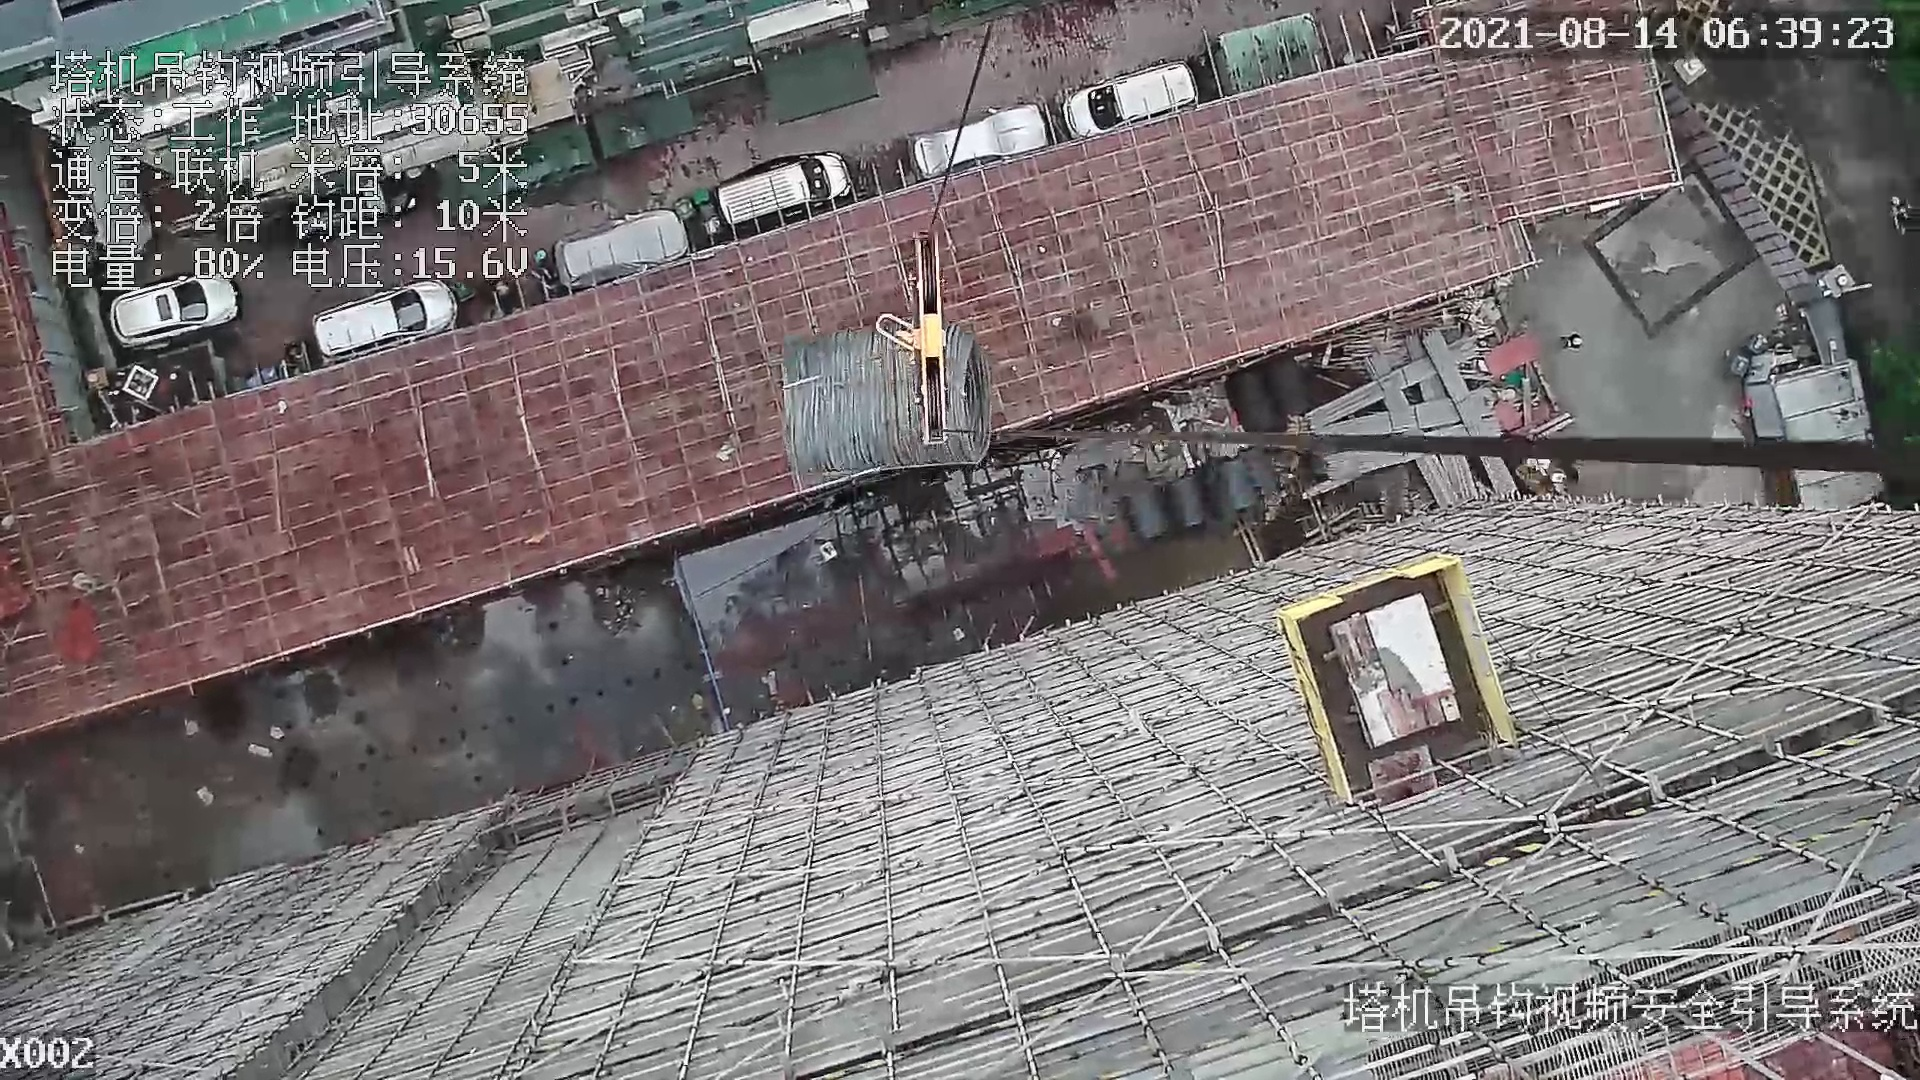hook: (877, 233, 953, 444)
